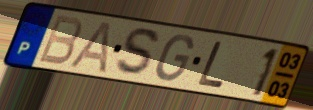1: (251, 47, 281, 98)
A: (67, 19, 115, 75)
B: (36, 13, 85, 67)
G: (153, 34, 195, 83)
L: (195, 39, 227, 90)
S: (113, 26, 163, 79)
